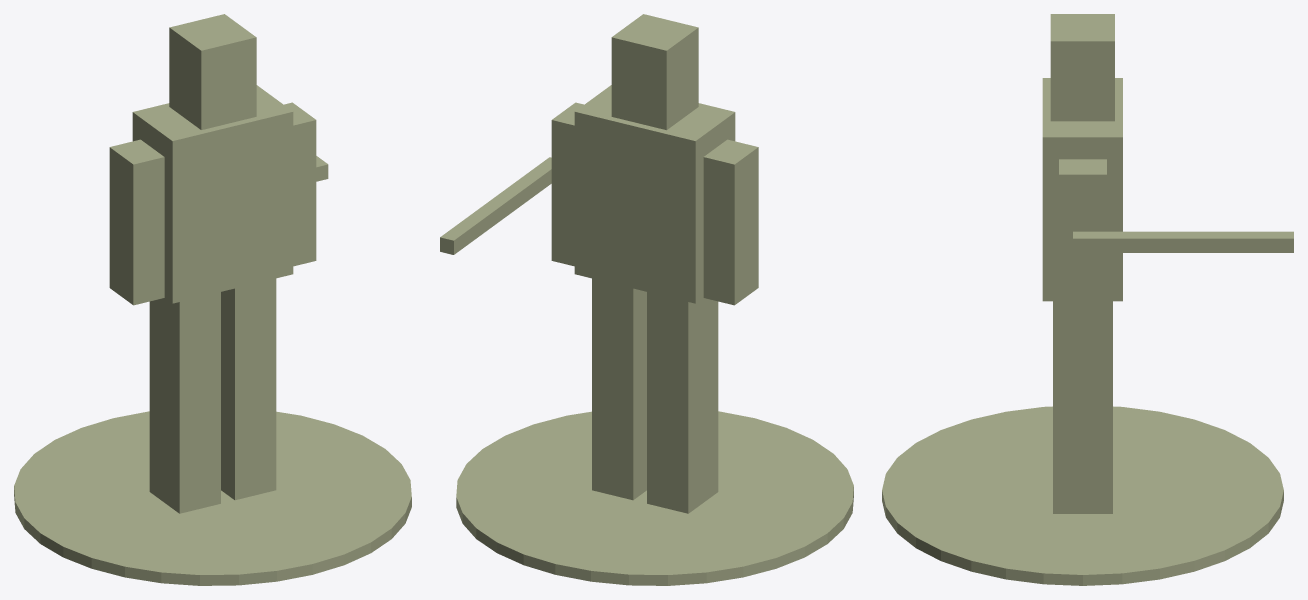
Rendered from imperial_guard.glb.
3 views of the same model, side by side, from view 1: azimuth 30°, elevation 25°; view 2: azimuth 150°, elevation 25°; view 3: azimuth 270°, elevation 25° (orthographic).
Visible parts, largest first — view 1: Operative_ImperialGuard; view 2: Operative_ImperialGuard; view 3: Operative_ImperialGuard.
Part boxes in pixels (box(x1,y1,x2,y2)): Operative_ImperialGuard: box(14, 14, 411, 585); Operative_ImperialGuard: box(440, 14, 853, 585); Operative_ImperialGuard: box(882, 14, 1293, 585).
Bounding box in the file's own units: 1 × 1.3 × 1.02.
